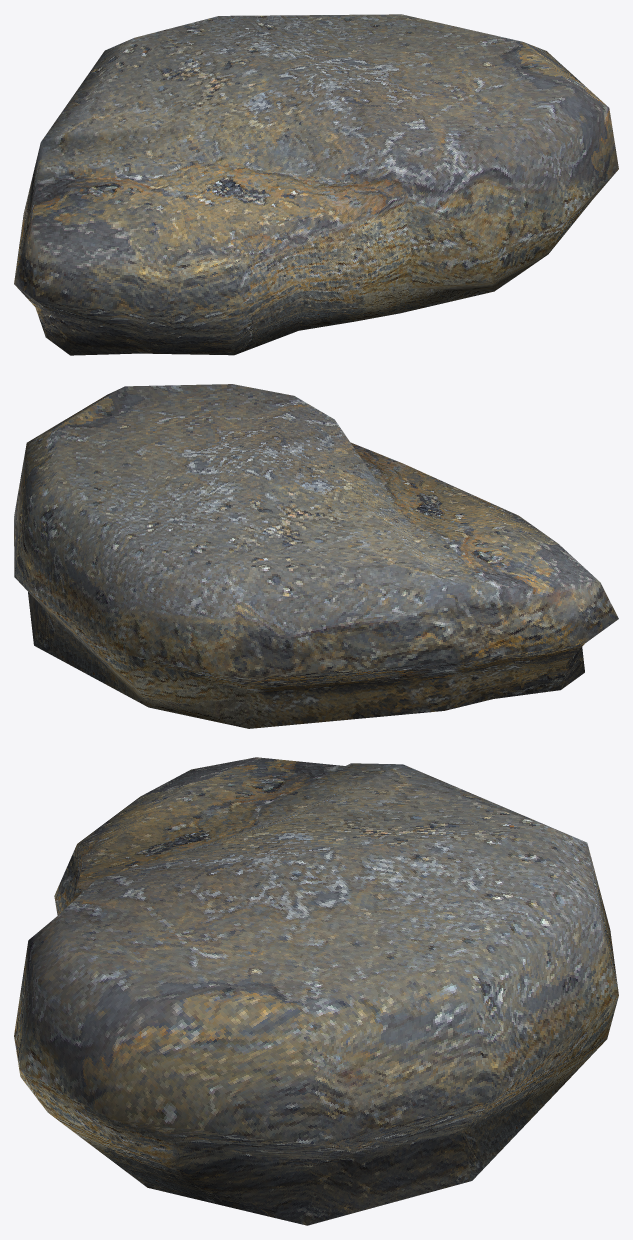
Rendered from rock_01_large.glb.
3 views of the same model, one above another, from view 1: azimuth 30°, elevation 25°; view 2: azimuth 150°, elevation 25°; view 3: azimuth 270°, elevation 25° (orthographic). The views are drawn at different scales.
Visible parts, largest first — view 1: rock_01_large; view 2: rock_01_large; view 3: rock_01_large.
Boxes of the visible parts, x1=… form: rock_01_large: x1=14, y1=14, x2=618, y2=355; rock_01_large: x1=14, y1=384, x2=618, y2=728; rock_01_large: x1=14, y1=757, x2=618, y2=1225.
Size of the model in its own units: 1.58 by 0.4783 by 1.16.
Materials: 1 (1 with a texture image).
